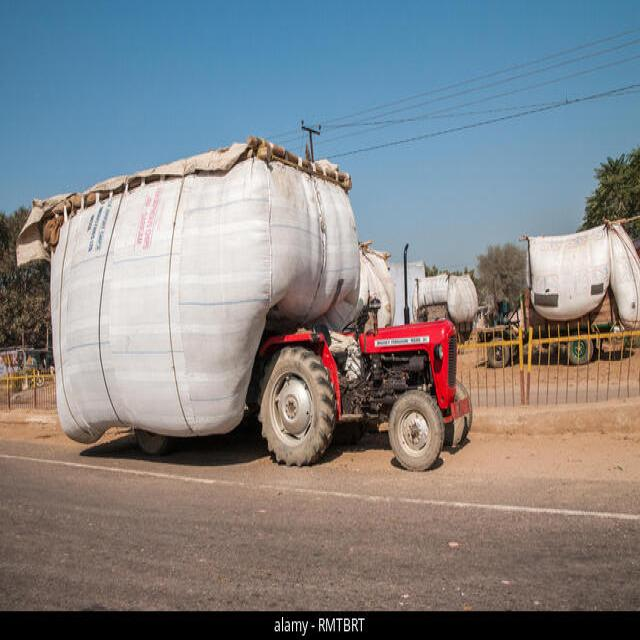normal_truck: (256, 302, 471, 470)
overloaded_truck: (18, 144, 360, 441)
